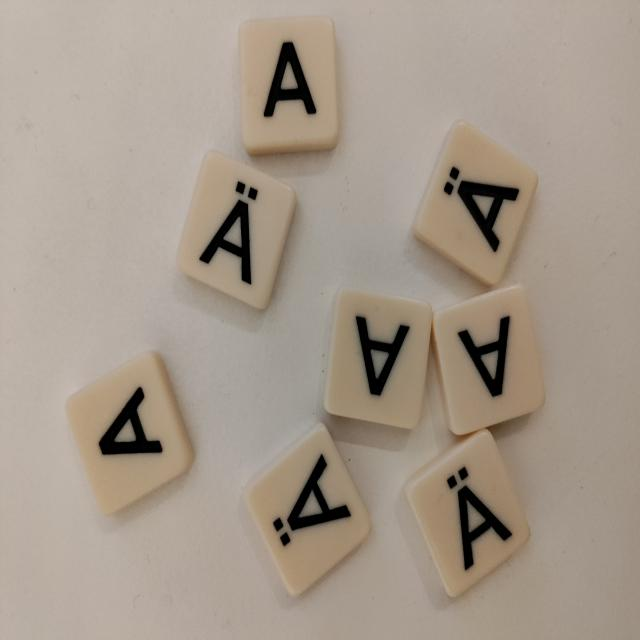a: (65, 349, 197, 518), (431, 284, 548, 441), (322, 286, 432, 429), (239, 15, 339, 153)
a_dot: (242, 419, 376, 600), (402, 425, 535, 603), (411, 120, 542, 289), (173, 148, 298, 313)
